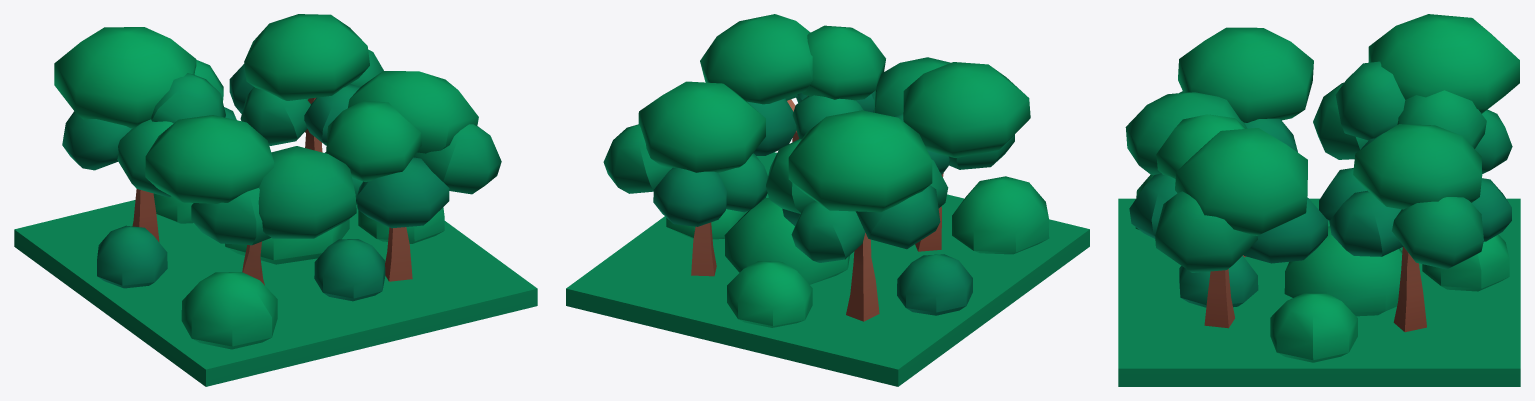
Rendered from park_base_decorated_trees.glb.
3 renders of one model, left to right at view 1: azimuth 30°, elevation 25°; view 2: azimuth 150°, elevation 25°; view 3: azimuth 270°, elevation 25°, orthographic. The views are drawn at different scales.
Parts seen in each view (by area): view 1: park_base_decorated_trees; view 2: park_base_decorated_trees; view 3: park_base_decorated_trees.
Part boxes in pixels (bbox=[...]): park_base_decorated_trees: bbox=[14, 14, 537, 386]; park_base_decorated_trees: bbox=[566, 14, 1089, 386]; park_base_decorated_trees: bbox=[1118, 14, 1520, 386].
Size of the model in its own units: 2 by 1.28 by 2.
Materials: 1 (1 with a texture image).
